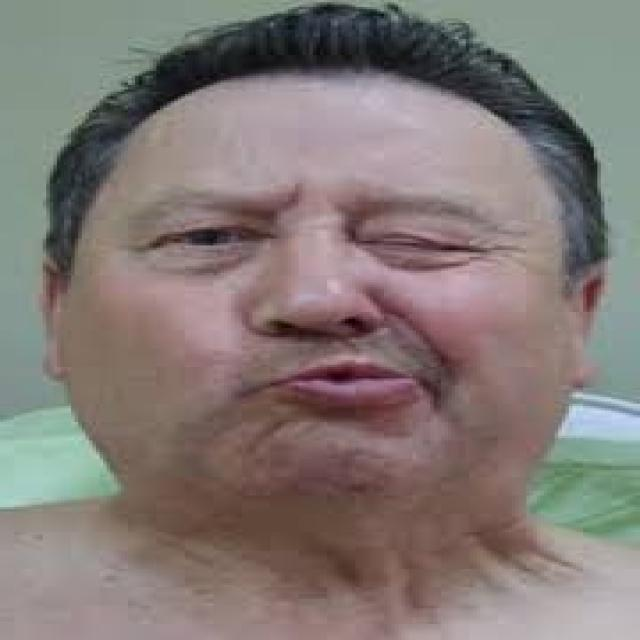stroke_face: (19, 33, 607, 535)
